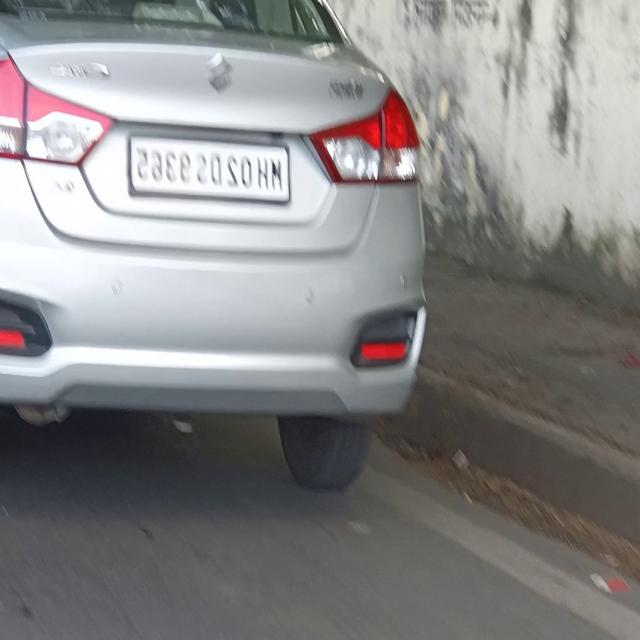license_plate: (120, 126, 297, 214)
